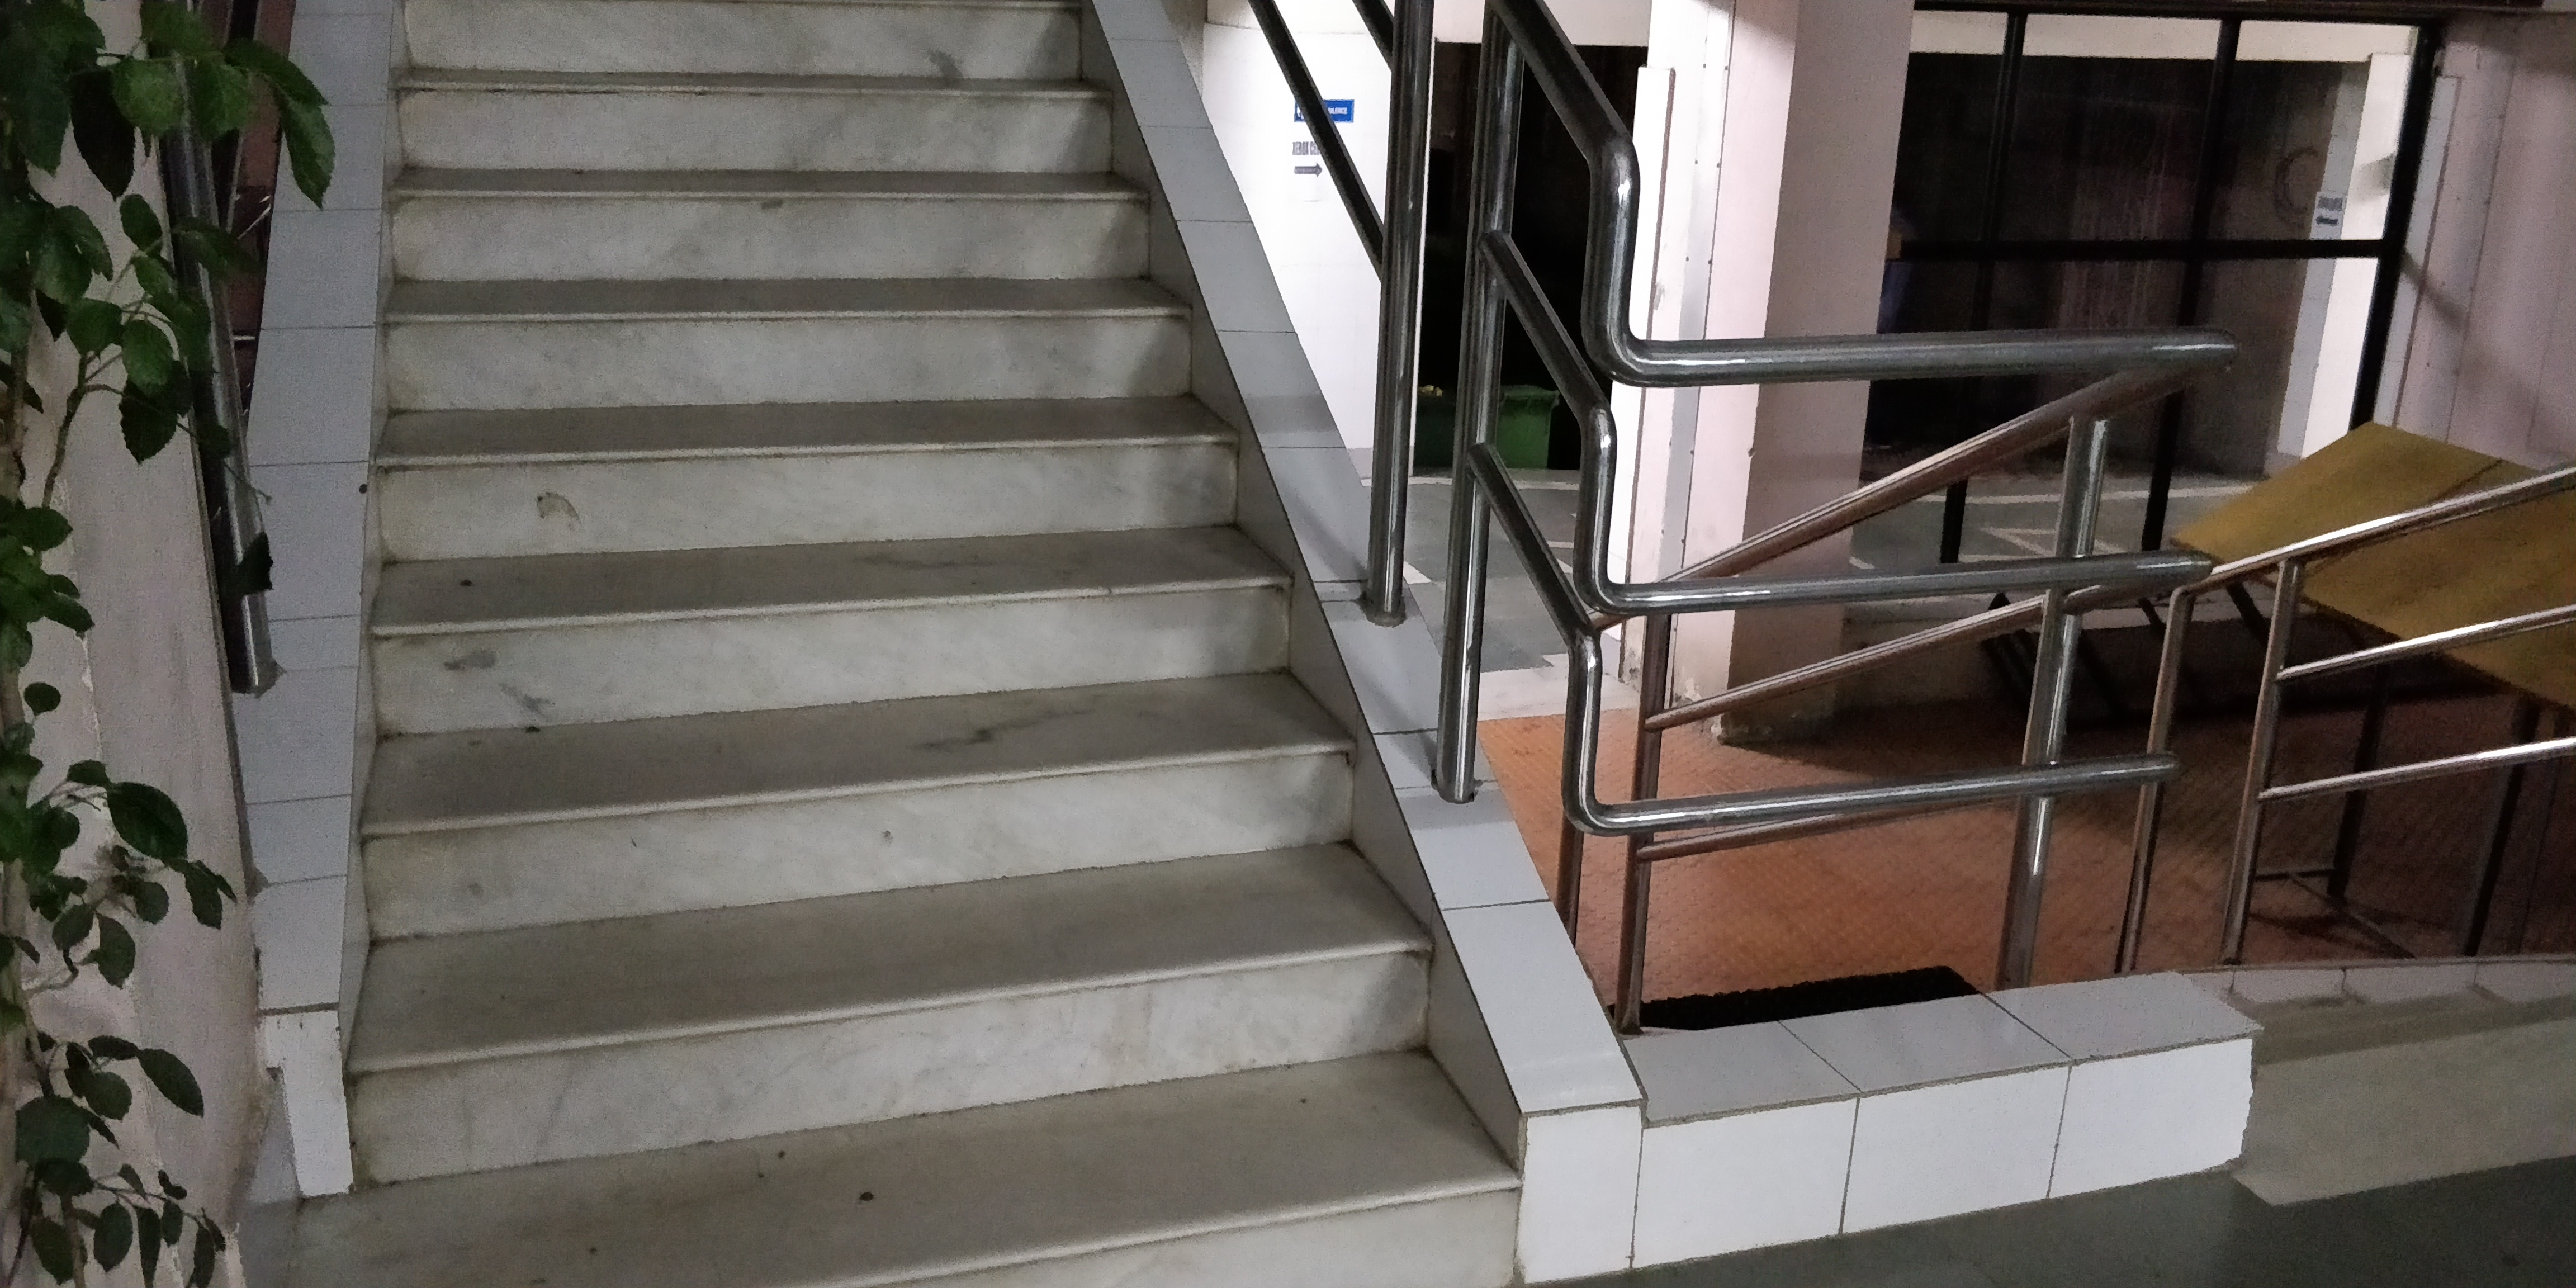stairs_up: (355, 39, 1520, 1288)
